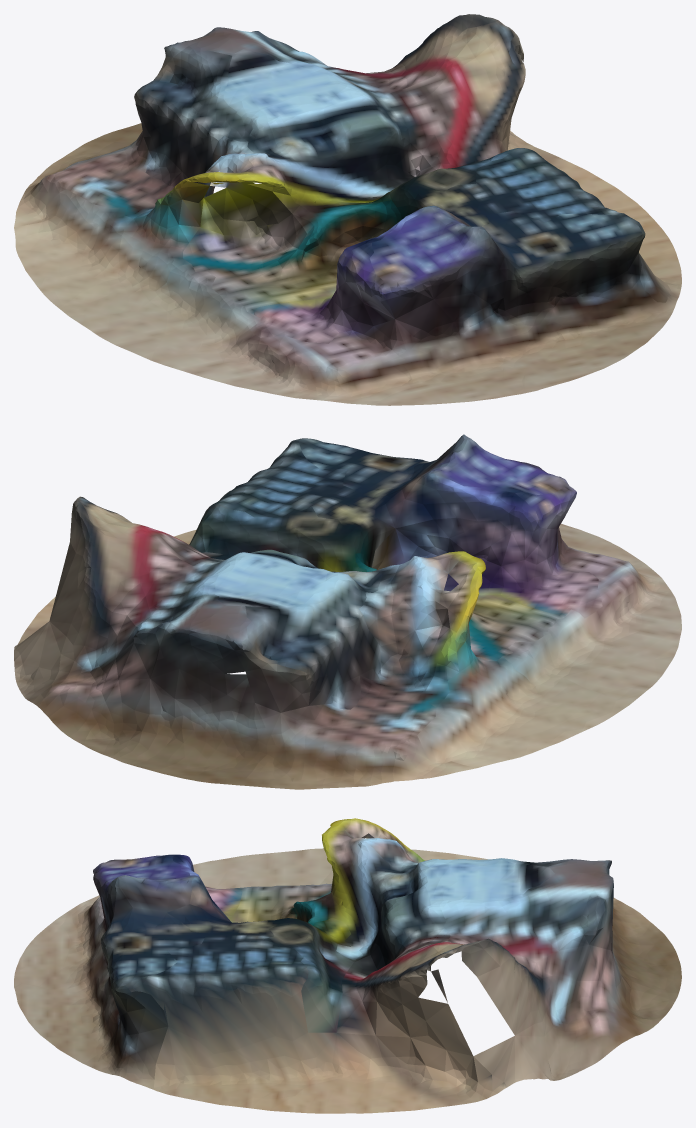
Rendered from cmm-sense.glb.
3 views of the same model, one above another, from view 1: azimuth 30°, elevation 25°; view 2: azimuth 150°, elevation 25°; view 3: azimuth 270°, elevation 25° (orthographic). The views are drawn at different scales.
Parts seen in each view (by area): view 1: mesh; view 2: mesh; view 3: mesh.
Part boxes in pixels (x1=…): mesh: x1=14, y1=14, x2=681, y2=405; mesh: x1=14, y1=434, x2=681, y2=789; mesh: x1=14, y1=818, x2=681, y2=1113.
Size of the model in its own units: 0.0584 by 0.015 by 0.066.
Materials: 1 (1 with a texture image).
